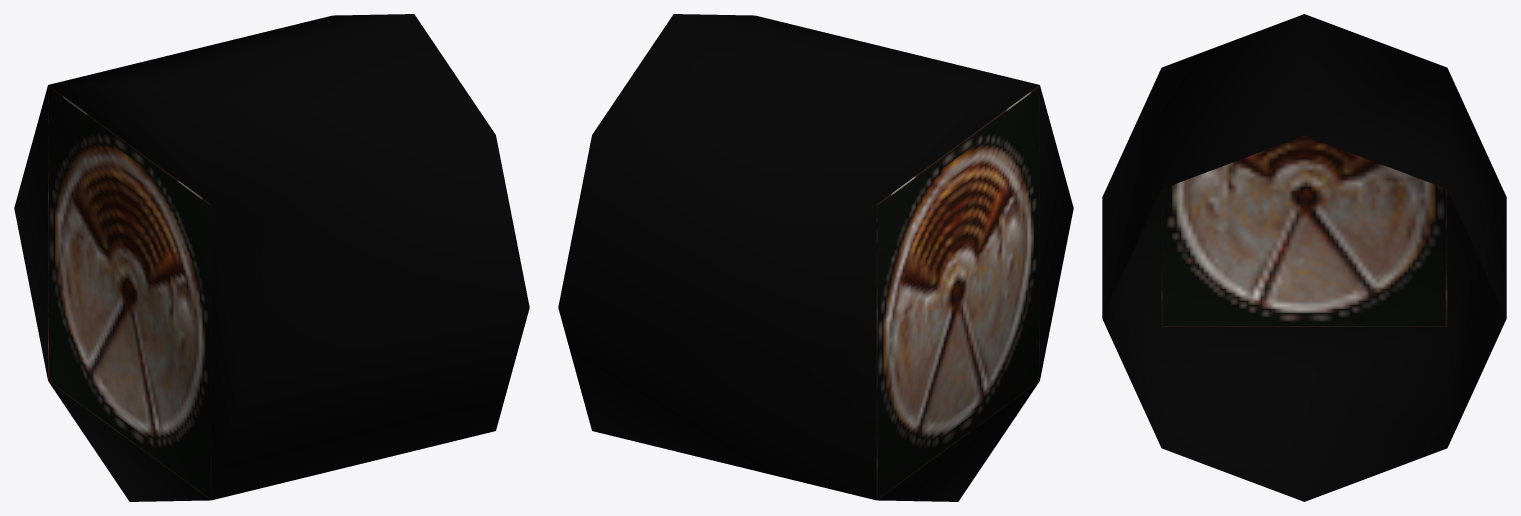
Rendered from WheelRearR.obj.
The picture shows the model from 3 angles, left to right: view 1: azimuth 30°, elevation 25°; view 2: azimuth 150°, elevation 25°; view 3: azimuth 270°, elevation 25°; orthographic projection. The views are drawn at different scales.
Parts seen in each view (by area): view 1: WheelRearR; view 2: WheelRearR; view 3: WheelRearR.
Boxes of the visible parts, x1=… form: WheelRearR: x1=14, y1=14, x2=529, y2=501; WheelRearR: x1=558, y1=14, x2=1073, y2=501; WheelRearR: x1=1102, y1=14, x2=1506, y2=501.
Bounding box in the file's own units: 0.839 × 1.18 × 1.18.
2 materials, 1 textured.
